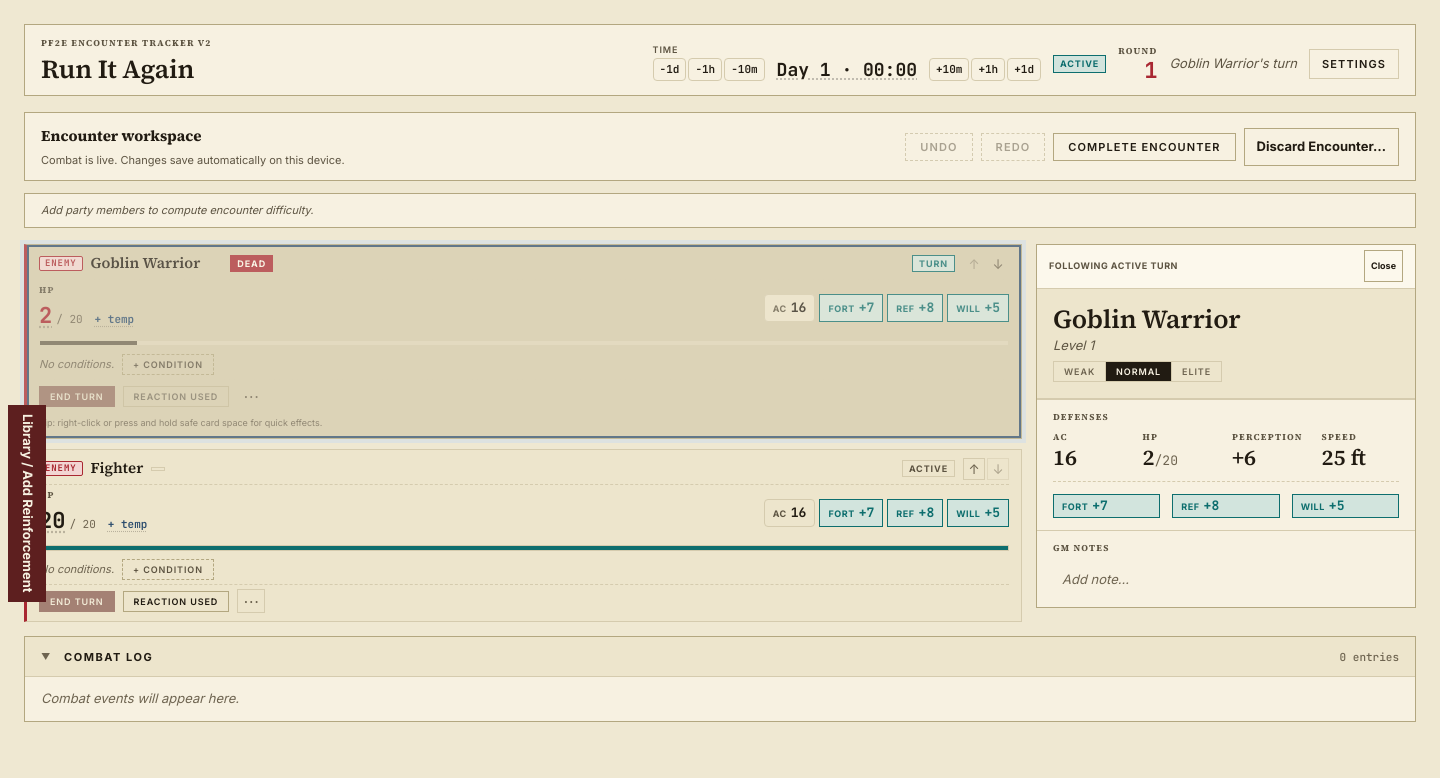
encounter lifecycle flow › prepares a rematch with reset combatants and the roster ready for new initiative
The image size is (1440, 778).
Expected: the heading "Run It Again" is shown, [41,54,212,83]
Click the button "Complete Encounter".
click(1144, 147)  # box [1053,133,1236,161]
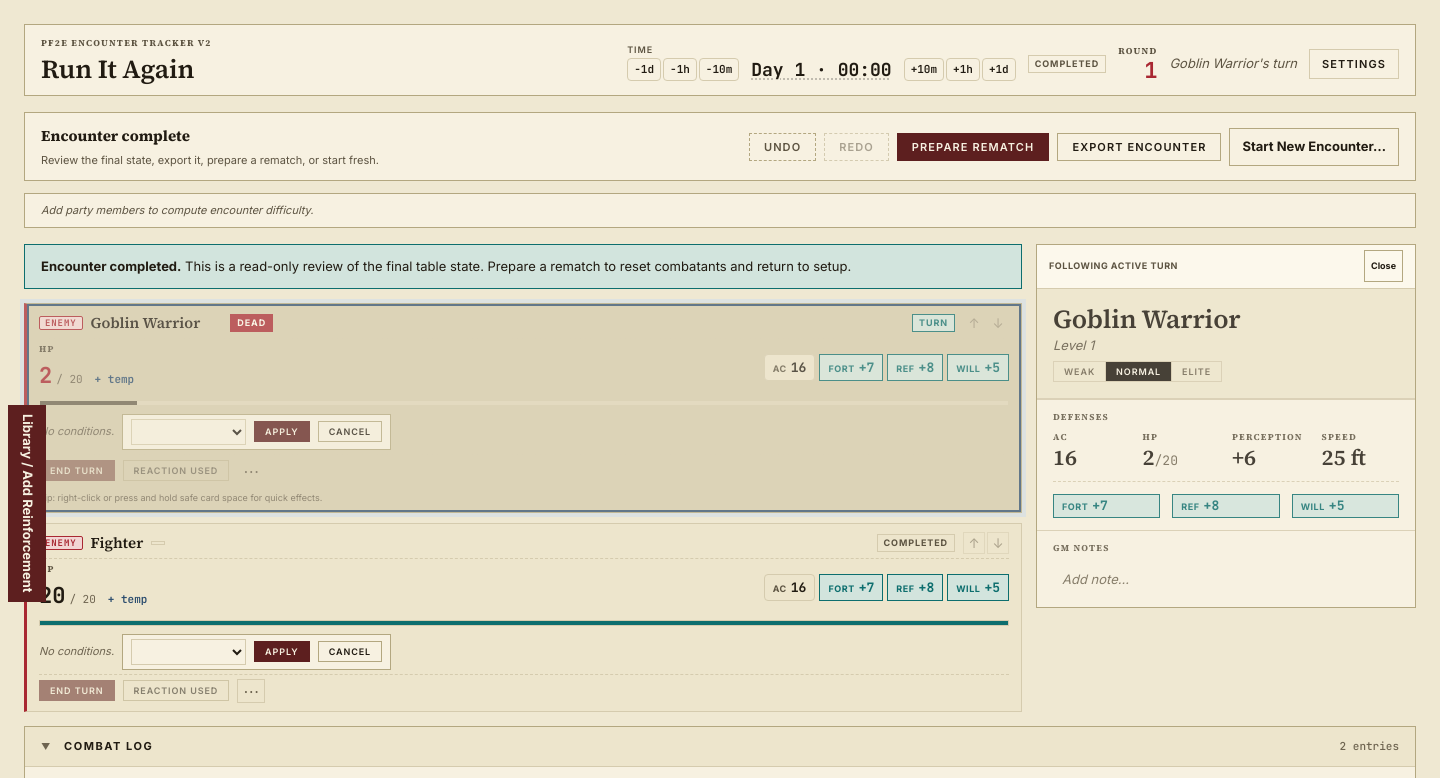
Click the button "Prepare Rematch".
click(973, 147)  # box [897,133,1049,161]
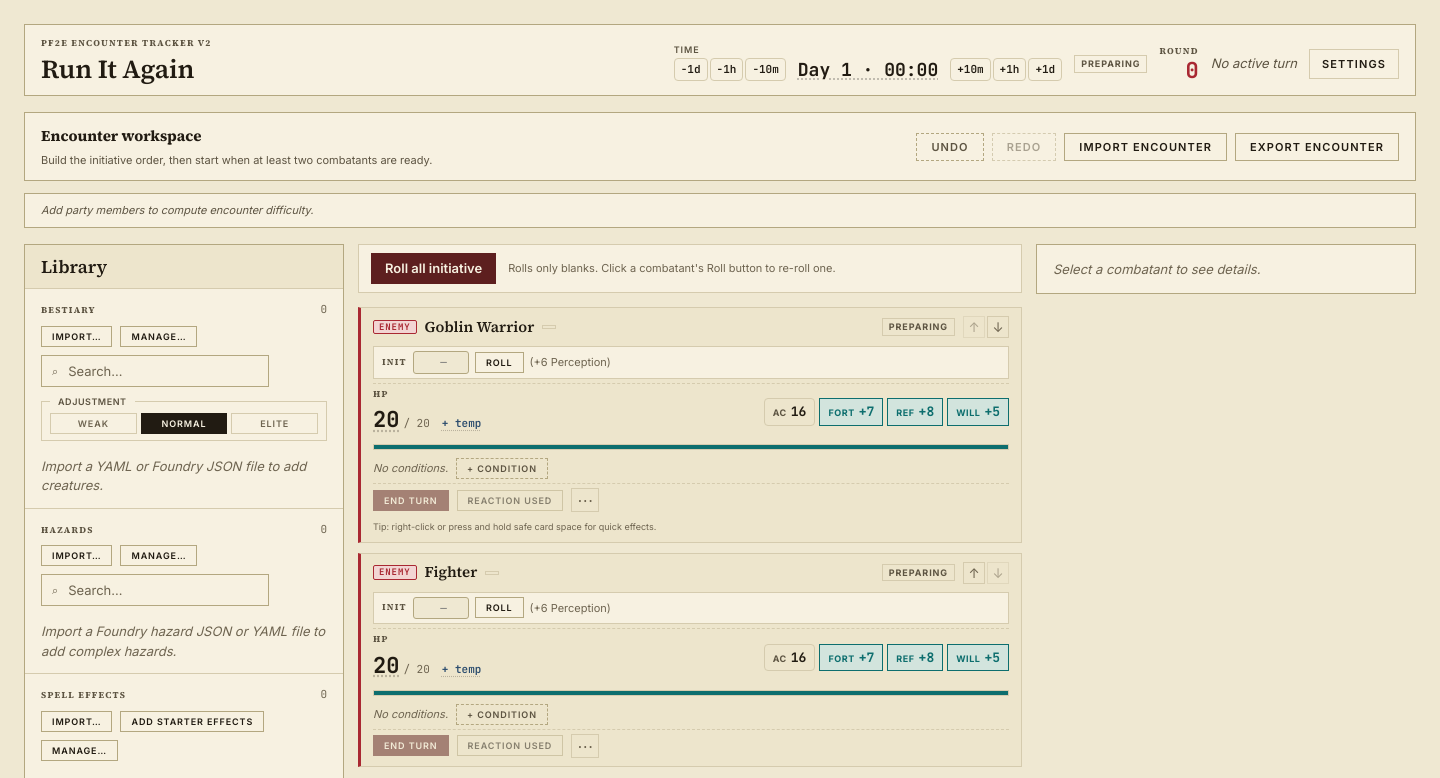
Expected: the button "Roll all initiative" is shown, [371,253,496,284]
Expected: the text "PREPARING" in the row of "No active turn" is shown, [1081,58,1140,69]
